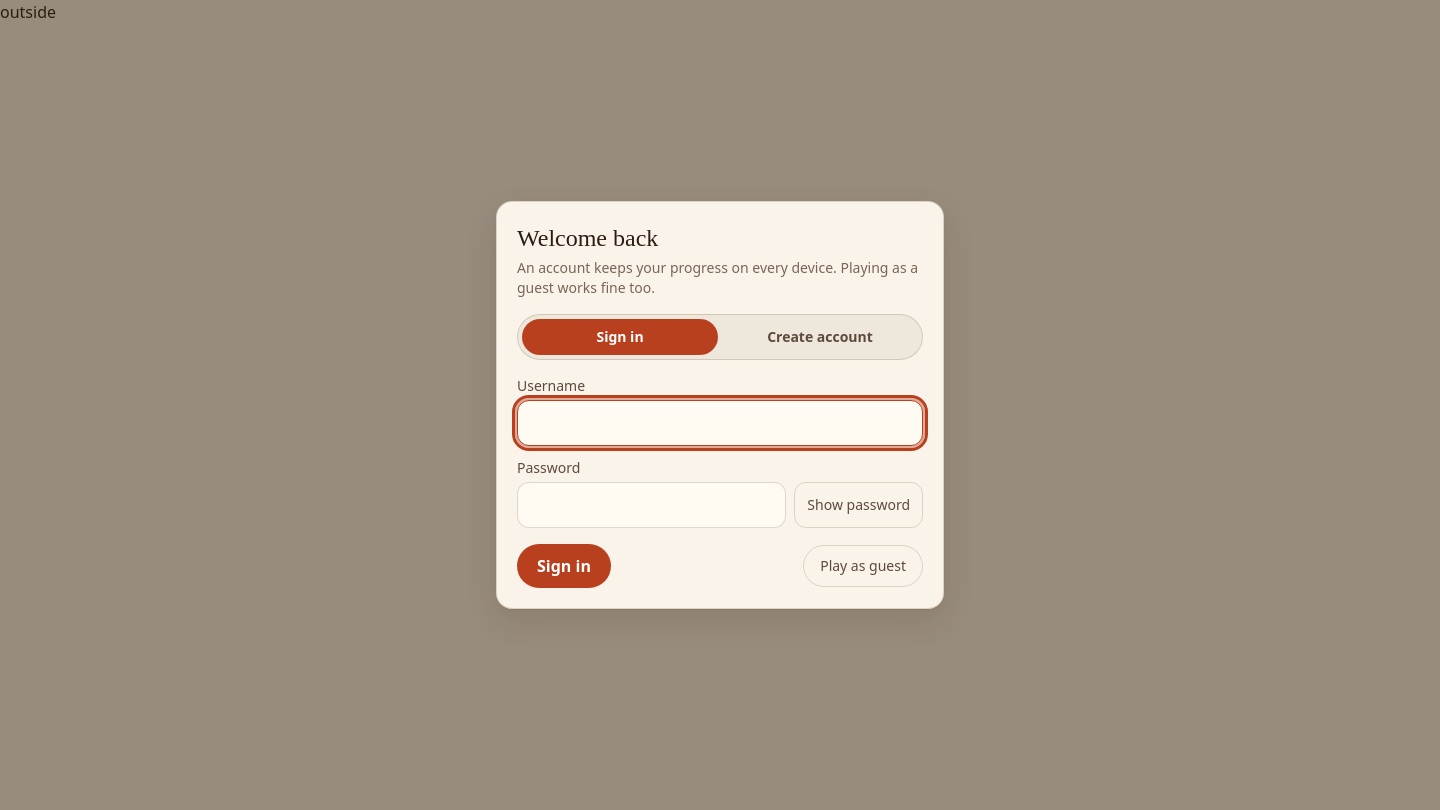
it: AuthDialog › only offers the avatar picker when creating an account
Click the tab "Create account" at x=820, y=337, box [722, 319, 918, 355]
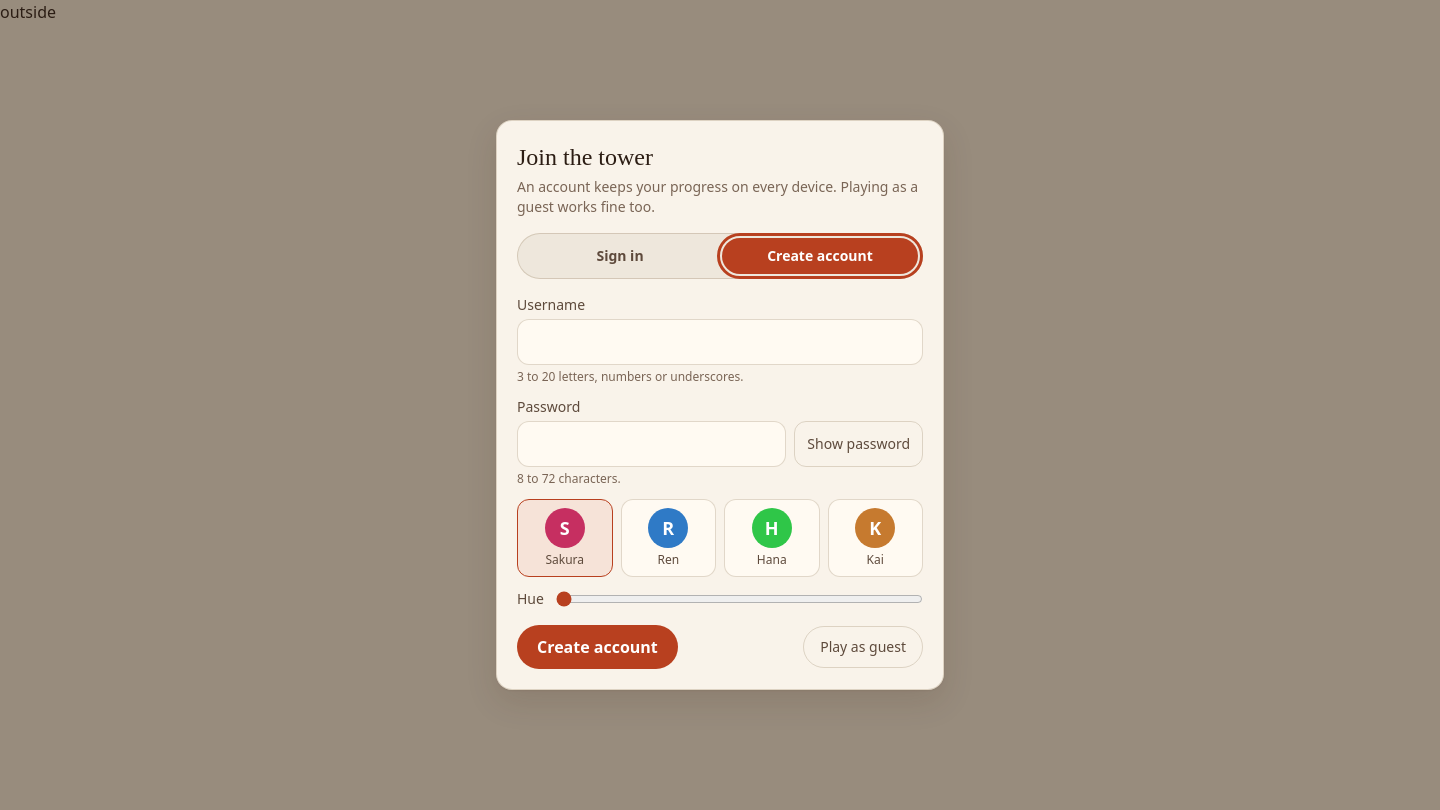
Expected: the element named "avatar" is shown, [517, 499, 923, 577]
Expected: the number of radio buttons is 4, [517, 499, 612, 577]; [620, 499, 716, 577]; [724, 499, 820, 577]; [828, 499, 923, 577]
